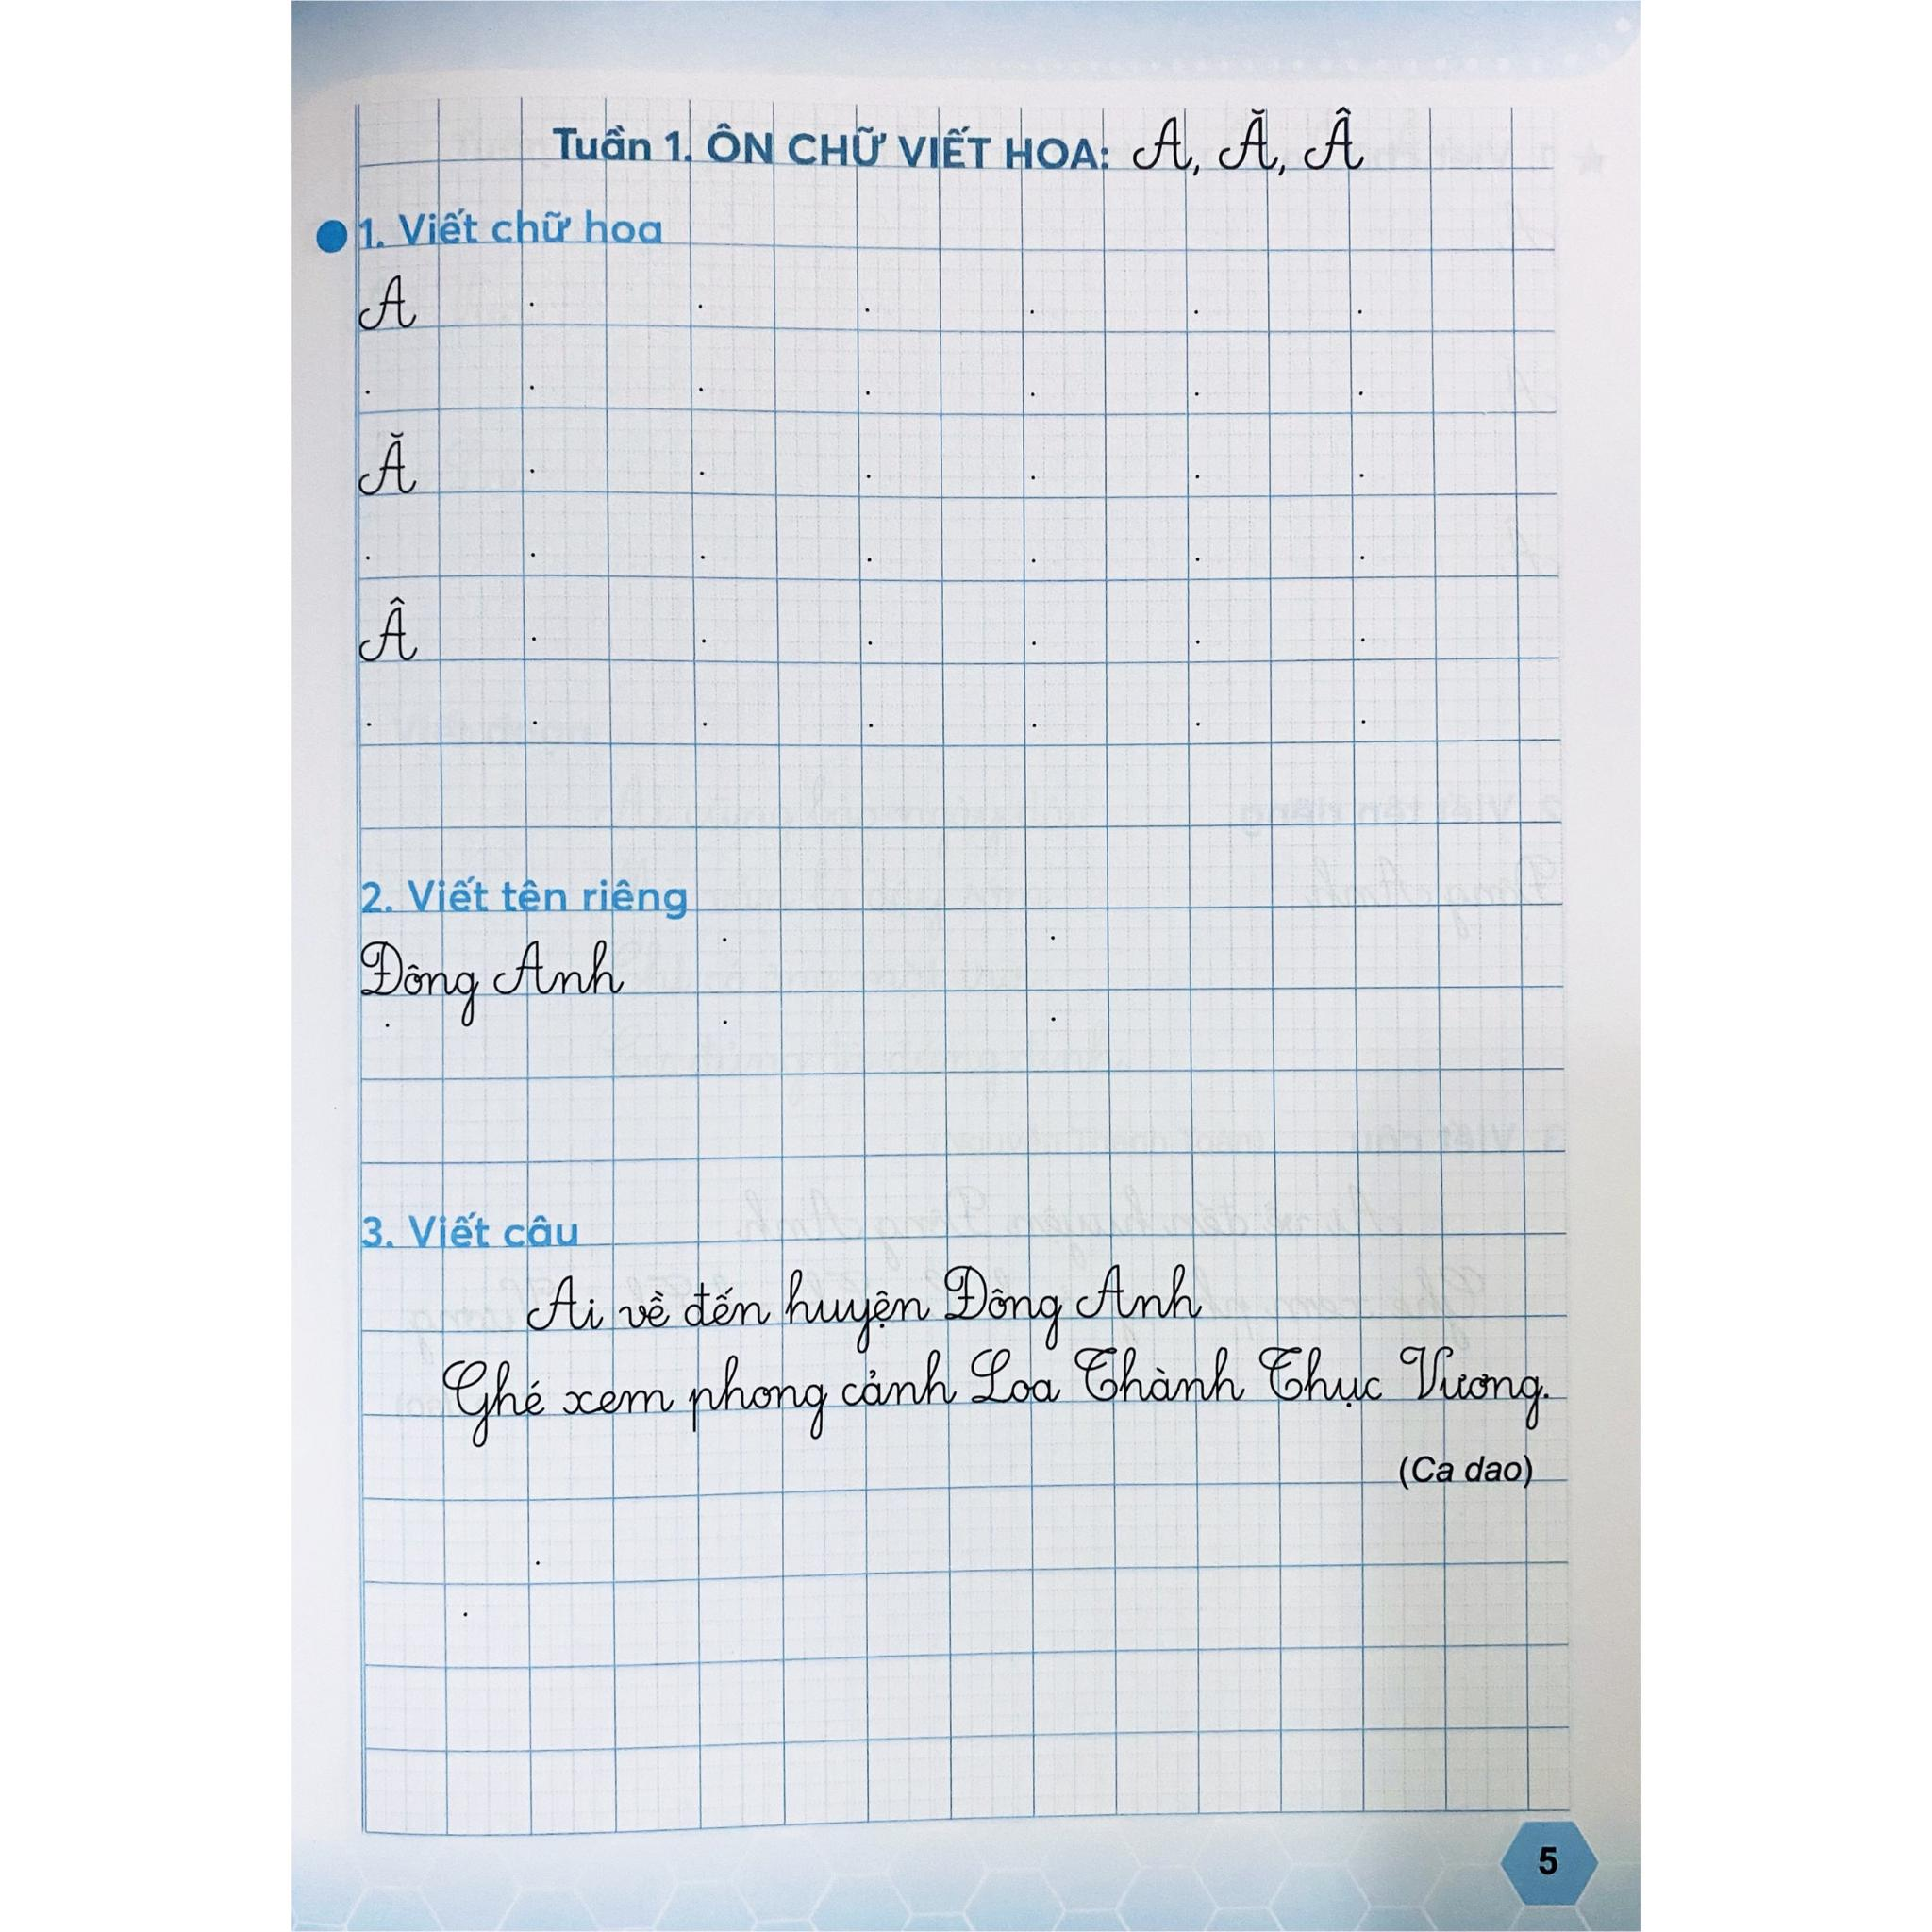text: (435, 1338, 1557, 1456), (518, 1251, 1210, 1359), (541, 94, 1371, 180), (352, 931, 632, 1031), (356, 870, 692, 927), (352, 202, 669, 258), (356, 1205, 586, 1260), (1391, 1442, 1536, 1504), (352, 421, 425, 506), (352, 596, 428, 669), (354, 269, 425, 341)
